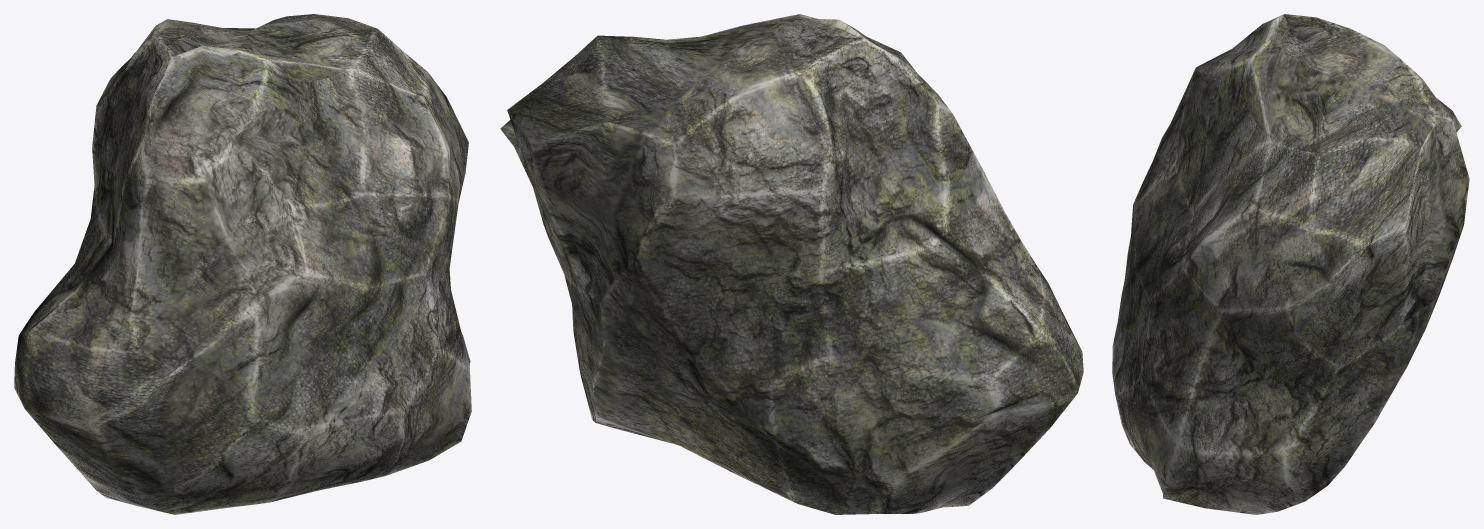
Rendered from rock1_LOD1.FBX.
3 renders of one model, left to right at view 1: azimuth 30°, elevation 25°; view 2: azimuth 150°, elevation 25°; view 3: azimuth 270°, elevation 25°, orthographic. The views are drawn at different scales.
Visible parts, largest first — view 1: rock1_LOD1; view 2: rock1_LOD1; view 3: rock1_LOD1.
Boxes of the visible parts, x1,y1,x2,y2 form: rock1_LOD1: (14,14,471,514); rock1_LOD1: (500,14,1083,514); rock1_LOD1: (1112,14,1469,514).
Size of the model in its own units: 497 by 438 by 339.
